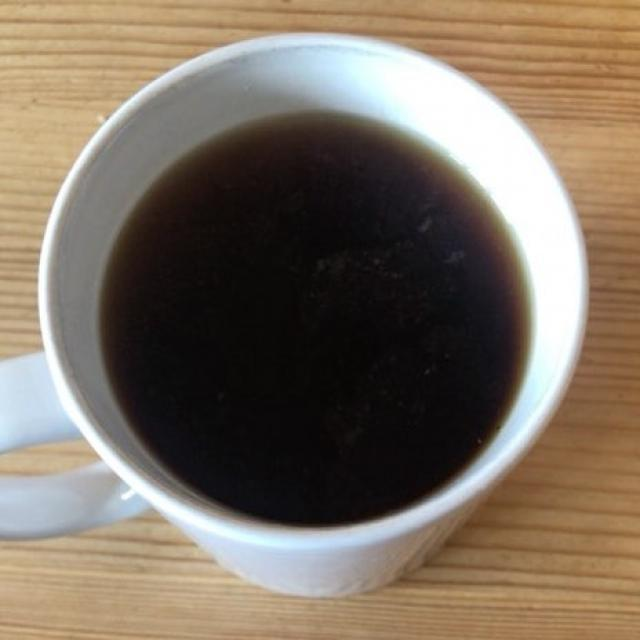tea: (108, 120, 520, 519)
